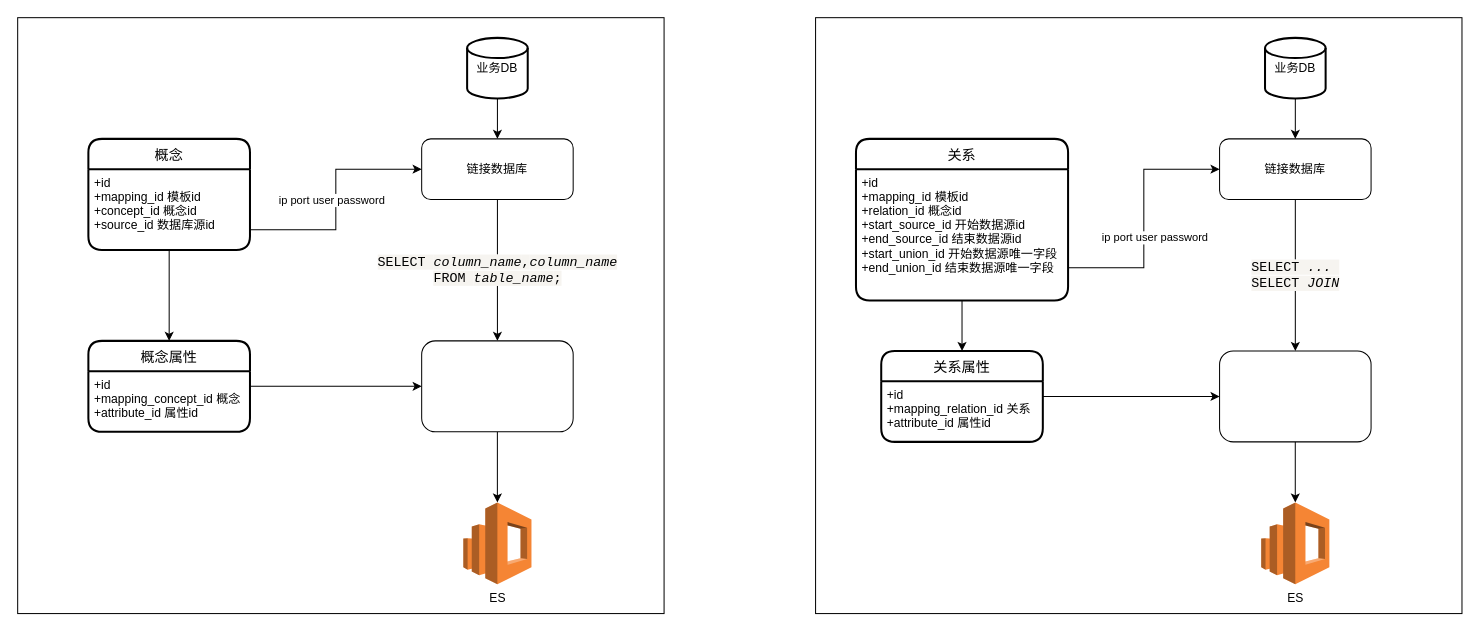
Some shapes in this 1480 by 631 pixel diagram are drawn without their labels. The shapes that lost their labels are listed below. From the top down, each one's centre as x and y in pixels, then its label:
the point at 497,386: 利用概念属性里的字段组装selec语句查询业务DB
the point at 1295,396: 利用关系属性里的字段组装selec语句查询业务DB
